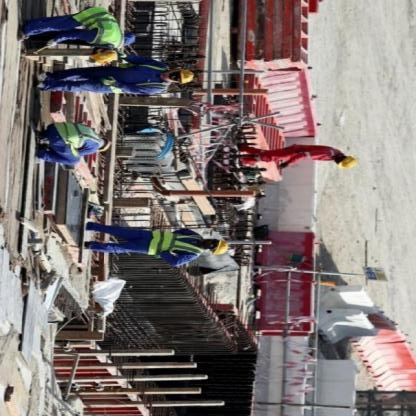vest: (76, 4, 126, 45), (53, 115, 102, 151), (148, 228, 208, 257)
yellow: (88, 48, 122, 63), (213, 234, 234, 255), (180, 62, 198, 86), (339, 153, 360, 169)
